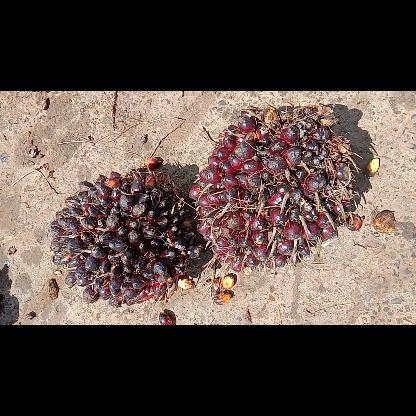Kurang masak: (187, 101, 363, 275), (46, 155, 210, 309)
